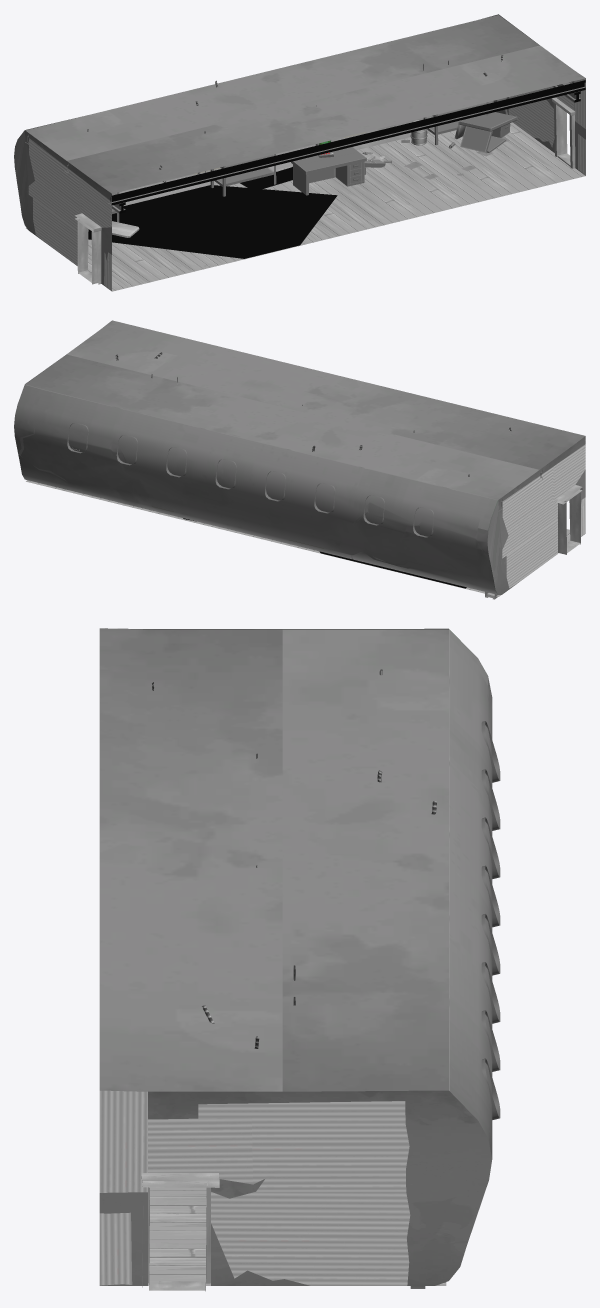
The model's file is MSH_QuestFilly_L1_R3_optimized.fbx.
The picture shows the model from 3 angles, top to bottom: view 1: azimuth 30°, elevation 25°; view 2: azimuth 150°, elevation 25°; view 3: azimuth 270°, elevation 25°; orthographic projection. The views are drawn at different scales.
Visible parts, largest first — view 1: lightmap3, lightmap4, lightmap7, lightmap0, lightmap2, lightmap6, lightmap1; view 2: lightmap0, lightmap3, lightmap1, lightmap6, lightmap4, lightmap7; view 3: lightmap3, lightmap0, lightmap4, lightmap6, lightmap1.
Boxes of the visible parts, bbox=[...] form: lightmap3: bbox=[25, 15, 585, 193]; lightmap4: bbox=[26, 122, 585, 291]; lightmap7: bbox=[88, 132, 365, 258]; lightmap0: bbox=[14, 14, 585, 291]; lightmap2: bbox=[110, 55, 585, 237]; lightmap6: bbox=[25, 82, 585, 222]; lightmap1: bbox=[75, 97, 575, 284]; lightmap0: bbox=[14, 360, 585, 594]; lightmap3: bbox=[26, 320, 584, 499]; lightmap1: bbox=[556, 484, 582, 554]; lightmap6: bbox=[67, 423, 585, 599]; lightmap4: bbox=[26, 480, 570, 596]; lightmap7: bbox=[152, 506, 466, 588]; lightmap3: bbox=[99, 628, 448, 1091]; lightmap0: bbox=[99, 628, 492, 1285]; lightmap4: bbox=[148, 1187, 446, 1285]; lightmap6: bbox=[379, 669, 500, 1288]; lightmap1: bbox=[141, 1173, 219, 1291].
Size of the model in its own units: 30.9 by 6.5 by 10.96.
